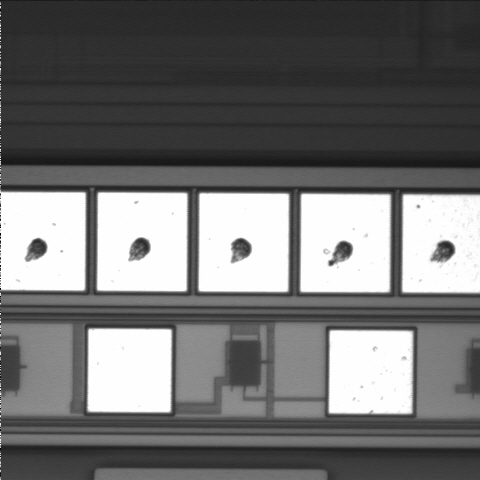pad: (199, 193, 289, 292), (97, 193, 187, 291), (300, 194, 390, 292), (329, 330, 413, 414), (88, 329, 171, 412)
